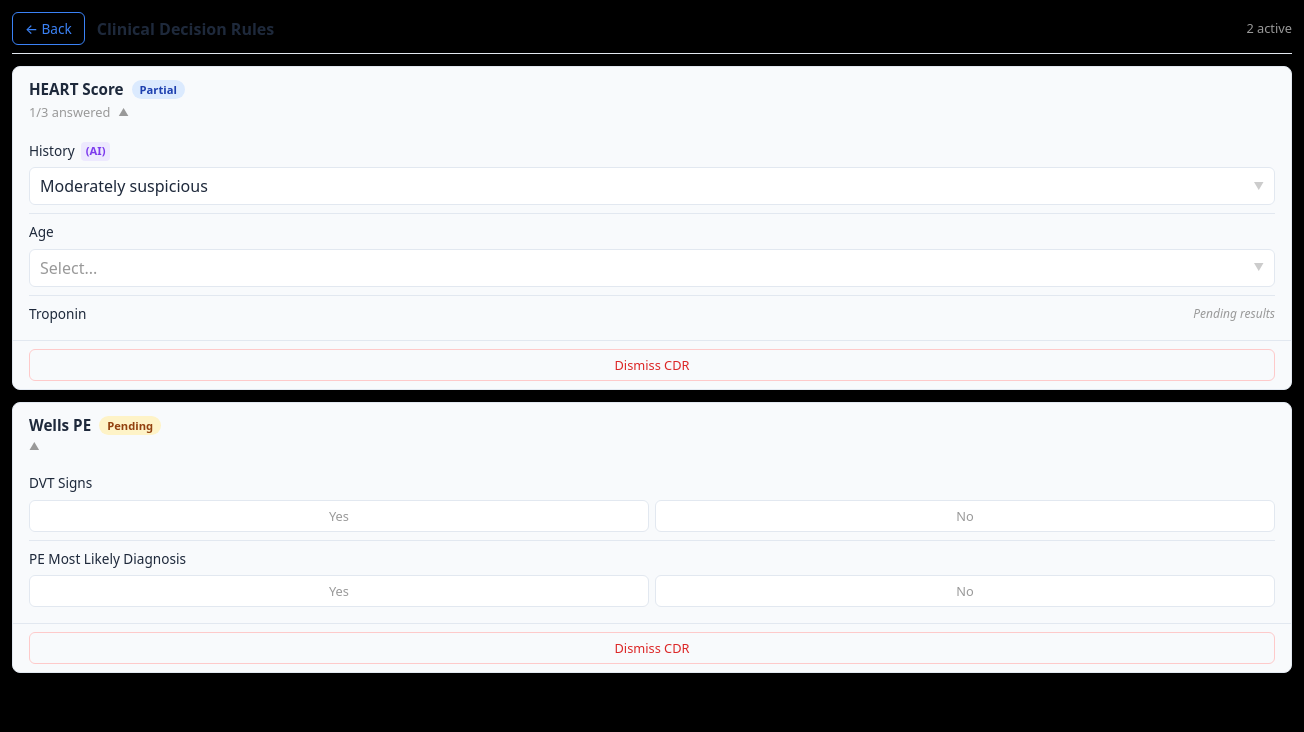
Scenario: CdrDetailView › confirming dismiss sets CDR to dismissed state
# Click dismiss, then confirm
Click the button "Dismiss CDR" below "Troponin" at (652, 365), box [29,349,1275,381]
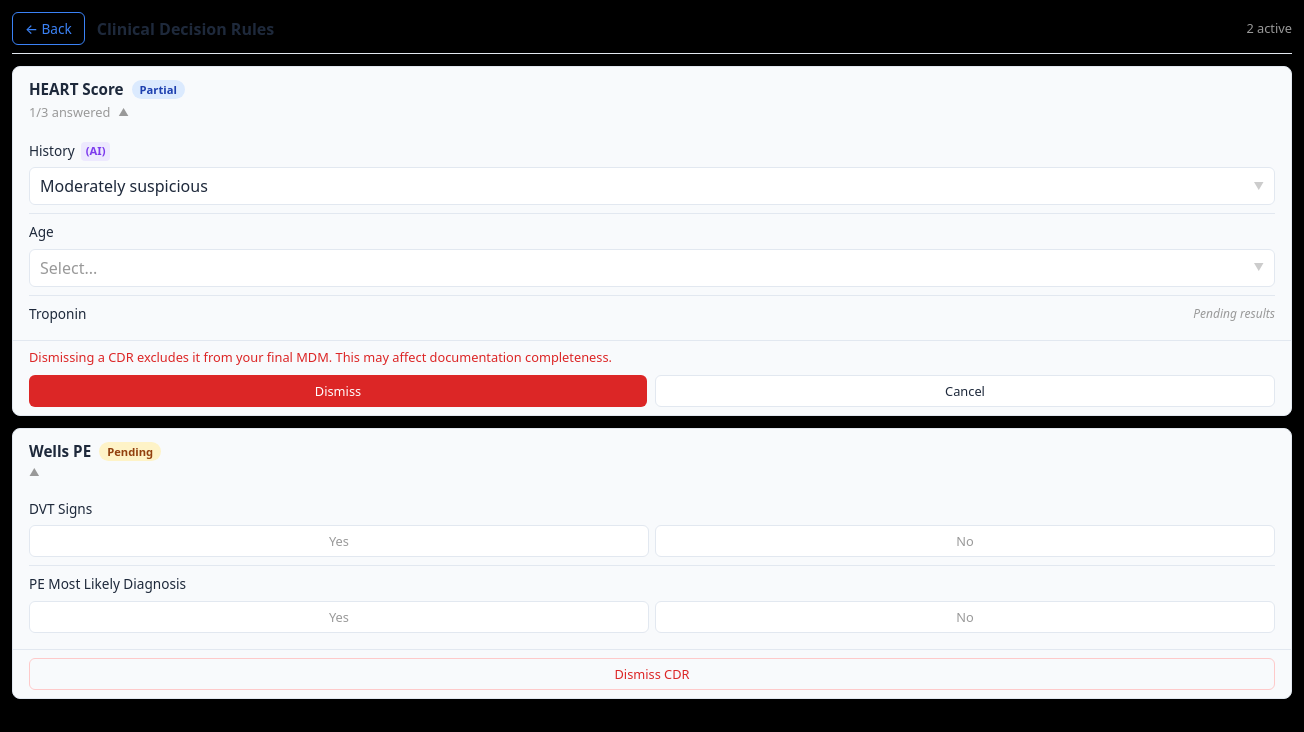
Click the button "Dismiss" at (338, 391), box [29,375,647,407]
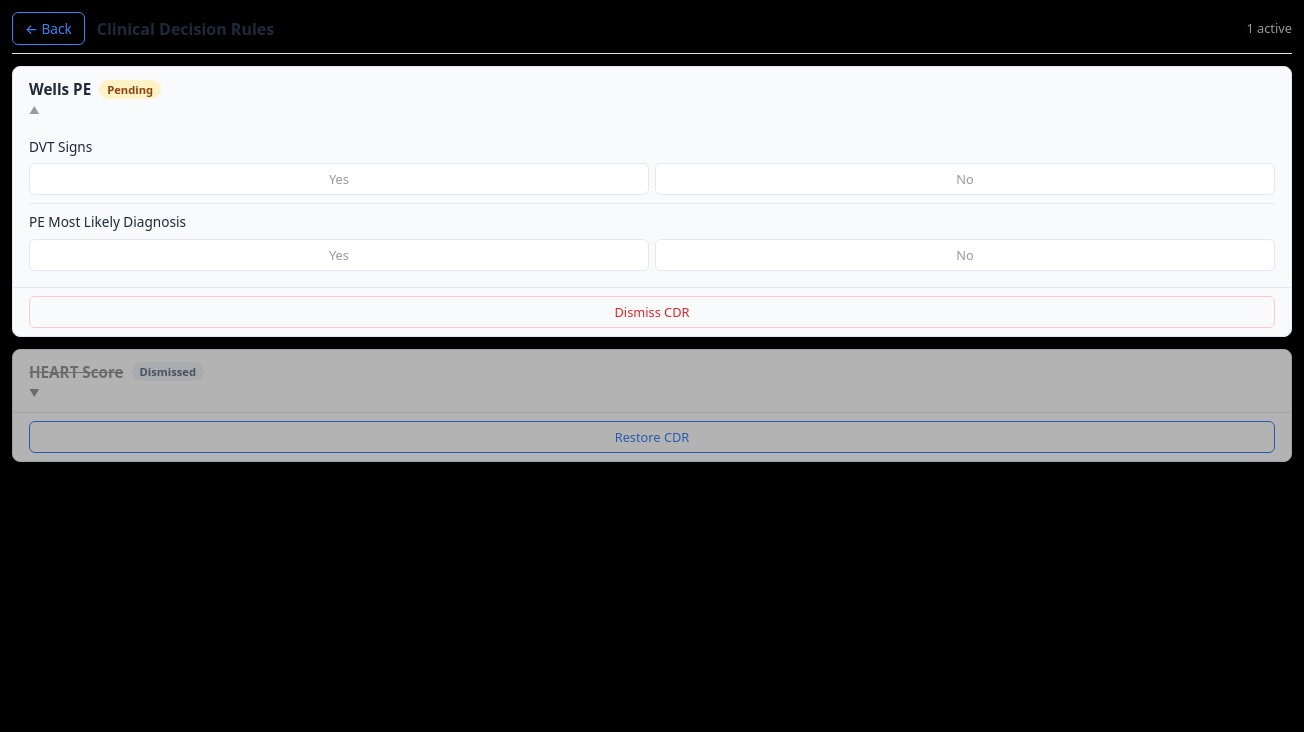
Expected: the text "Dismissed" is shown, [132,362,204,381]
Expected: the button "Restore CDR" is shown, [29,421,1275,453]
